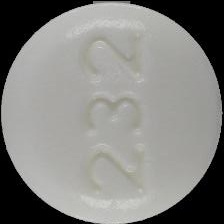49884-232: (0, 0, 224, 224)
